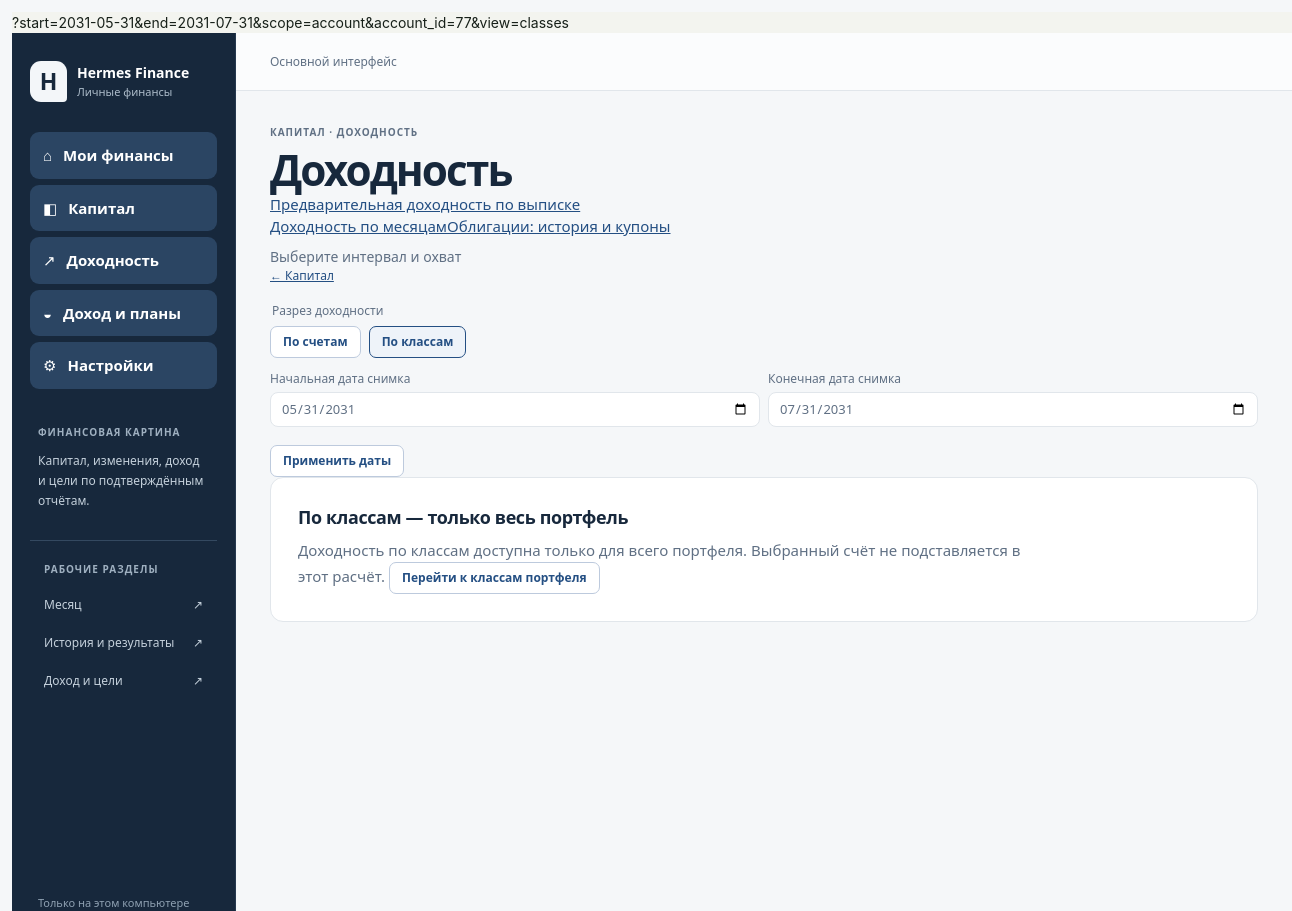
Scenario: class returns in existing Performance detail › does not silently coerce account URLs; portfolio action preserves exact dates
The width and height of the screenshot is (1292, 911).
Expected: the heading "По классам — только весь портфель" is shown, [298,505,628,529]
Expected: the text with test id "location" shows "account_id=77", [12,14,569,31]
Click the button "Перейти к классам портфеля": x=494, y=578 [389,562,600,594]
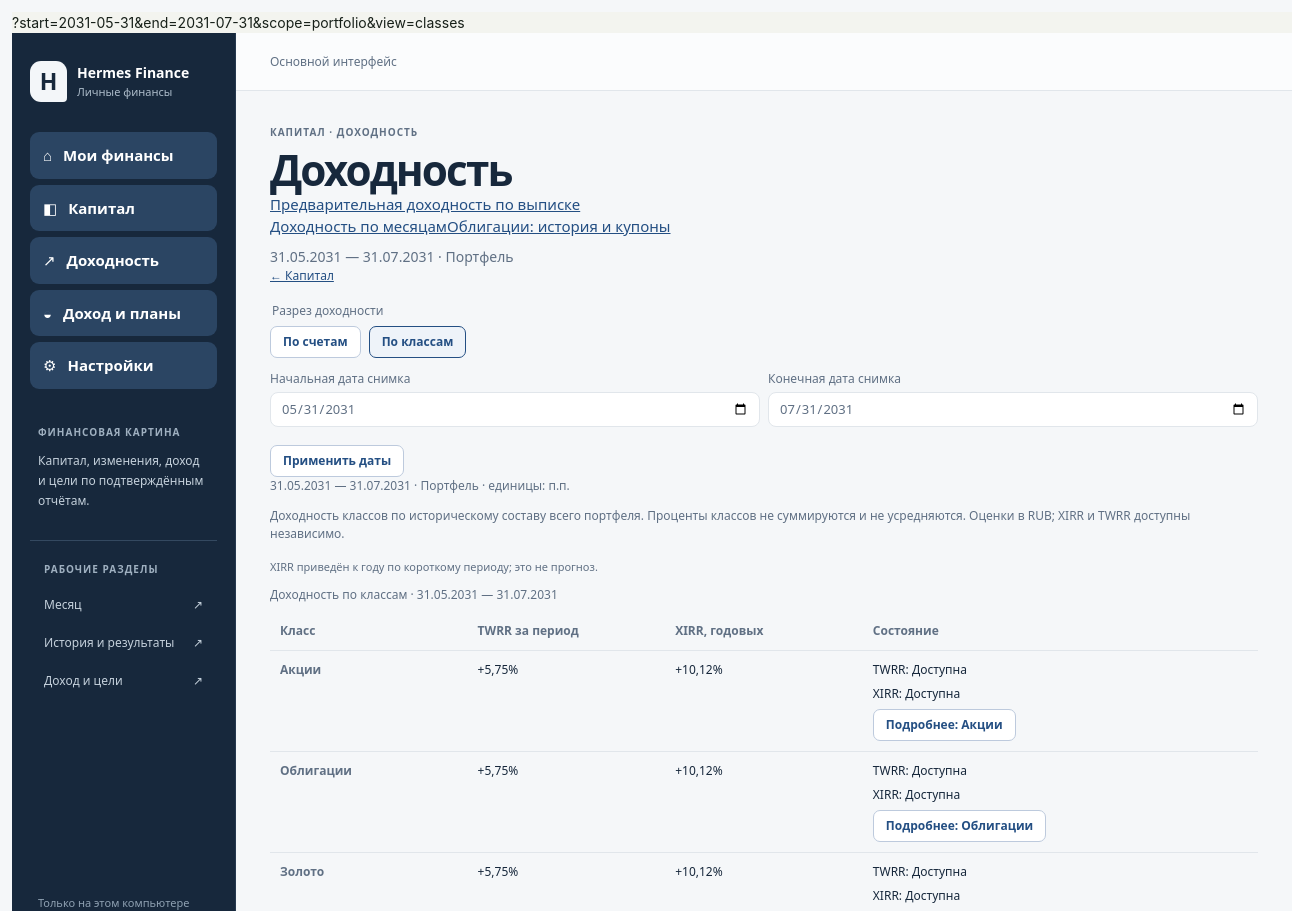
Now the row with test id "class-return-stock" shows "+10,12%", box [675,661,723,678]
Now the text with test id "location" no longer shows "account_id", box [12,14,465,31]
